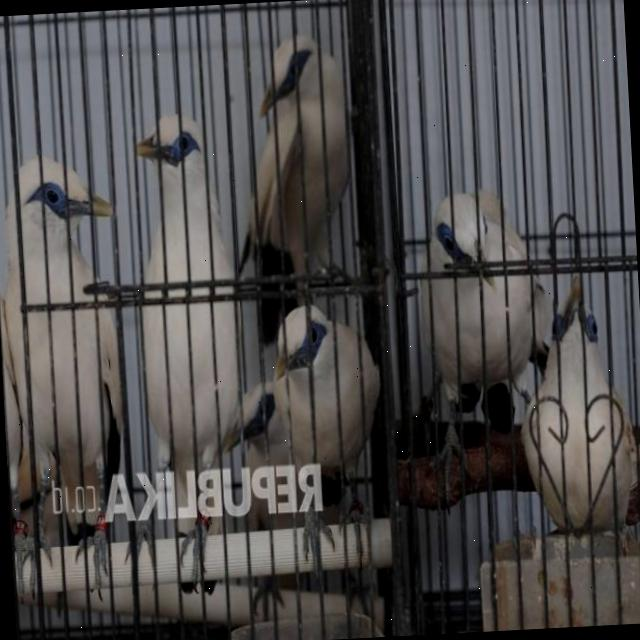Jalak Bali: (102, 93, 258, 588), (2, 143, 151, 609), (399, 168, 566, 514), (228, 11, 368, 310), (507, 257, 640, 564), (264, 296, 404, 576), (214, 374, 302, 582)
